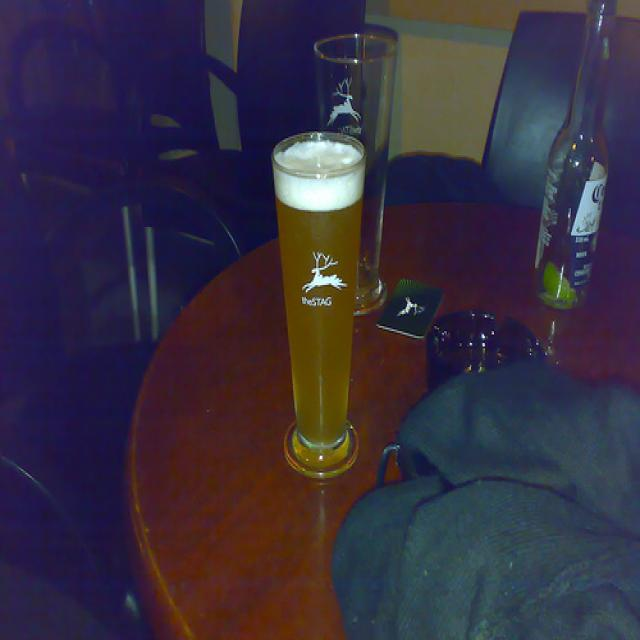Bottle: (508, 4, 640, 336)
Cup: (275, 124, 377, 521), (315, 17, 407, 330)
Table: (98, 167, 636, 640)
chair: (114, 0, 367, 336), (0, 3, 203, 300), (462, 4, 640, 198)
